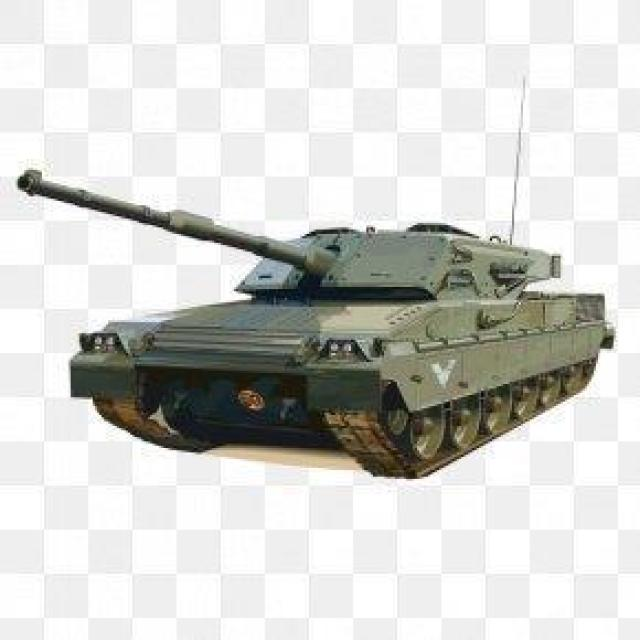Tanks: (9, 167, 616, 482)
